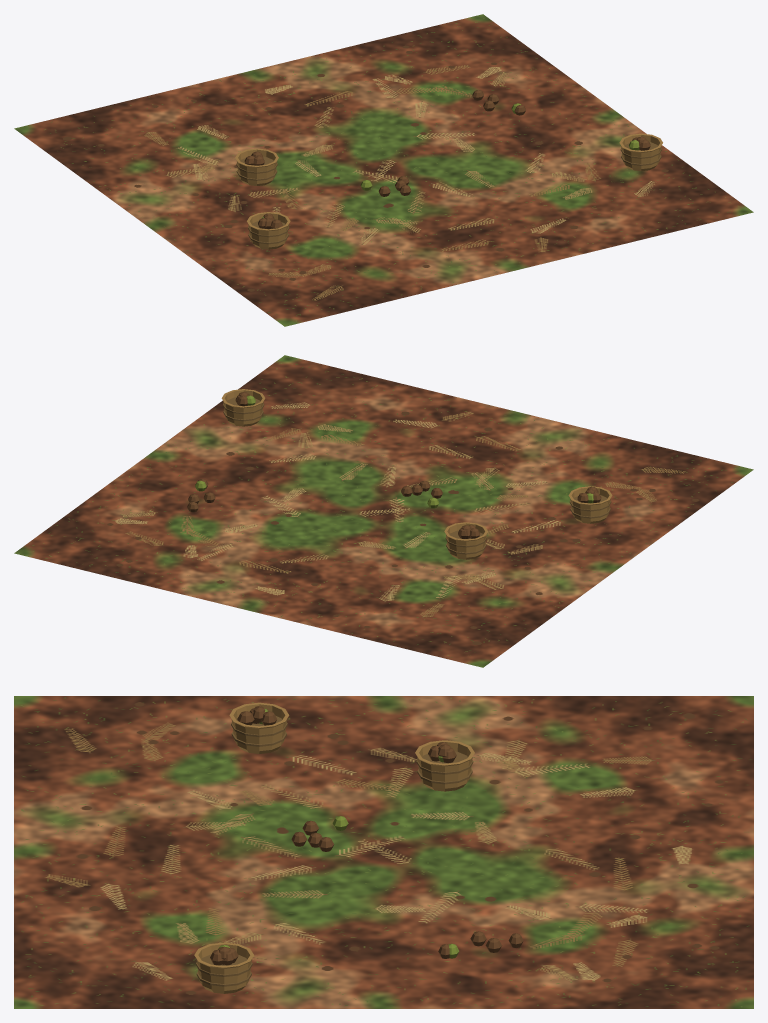
The model's file is plantaz_zem.glb.
3 views of the same model, one above another, from view 1: azimuth 30°, elevation 25°; view 2: azimuth 150°, elevation 25°; view 3: azimuth 270°, elevation 25° (orthographic). The views are drawn at different scales.
Visible parts, largest first — view 1: zem, kose; view 2: zem, kose; view 3: zem, kose.
Part boxes in pixels (x1,y1,x2,y2): zem: [14, 14, 753, 326]; kose: [235, 90, 662, 249]; zem: [14, 355, 753, 667]; kose: [187, 389, 612, 559]; zem: [14, 696, 753, 1008]; kose: [194, 702, 523, 993].
Bounding box in the file's own units: 14.8 × 0.8501 × 14.8.
2 materials, 2 textured.
